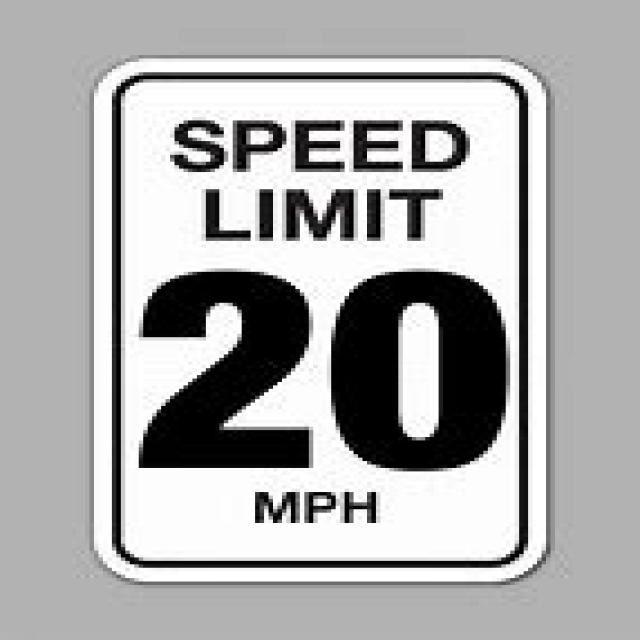speedLimit20: (92, 50, 548, 576)
